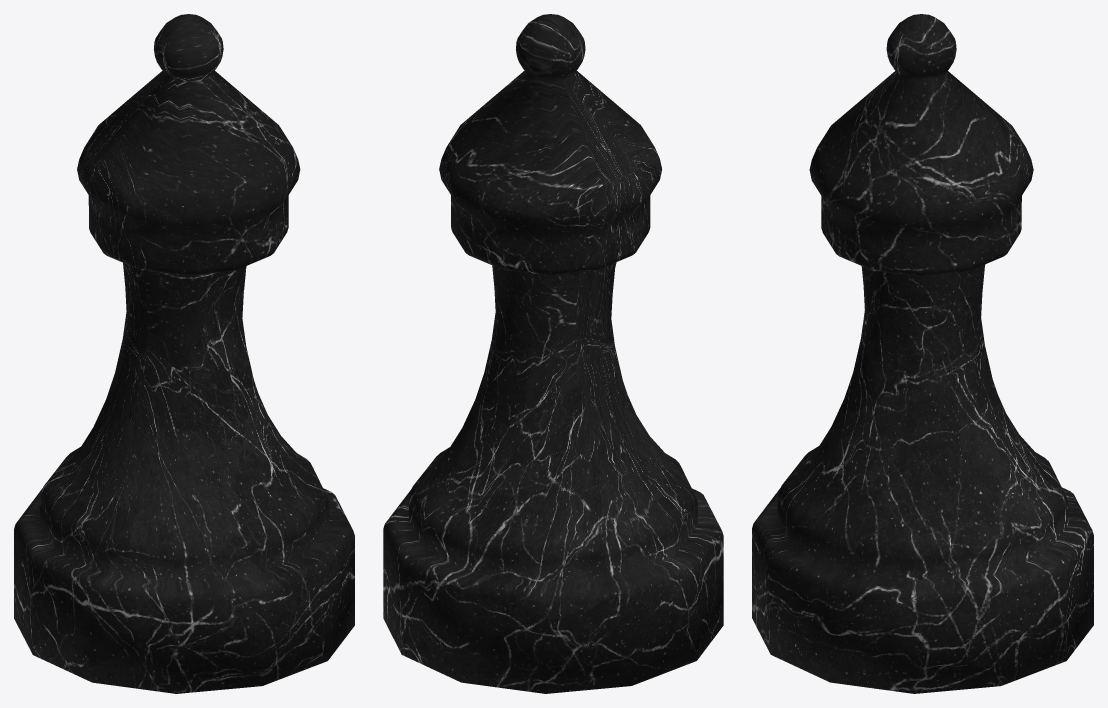
File: AlfilNegro.glb
3 renders of one model, left to right at view 1: azimuth 30°, elevation 25°; view 2: azimuth 150°, elevation 25°; view 3: azimuth 270°, elevation 25°, orthographic.
Visible parts, largest first — view 1: Alfil; view 2: Alfil; view 3: Alfil.
Part boxes in pixels (x1,y1,x2,y2): Alfil: (14, 14, 354, 693); Alfil: (383, 14, 723, 693); Alfil: (752, 14, 1093, 693).
Bounding box in the file's own units: 0.7033 × 1.38 × 0.7033.
1 material, 1 textured.
